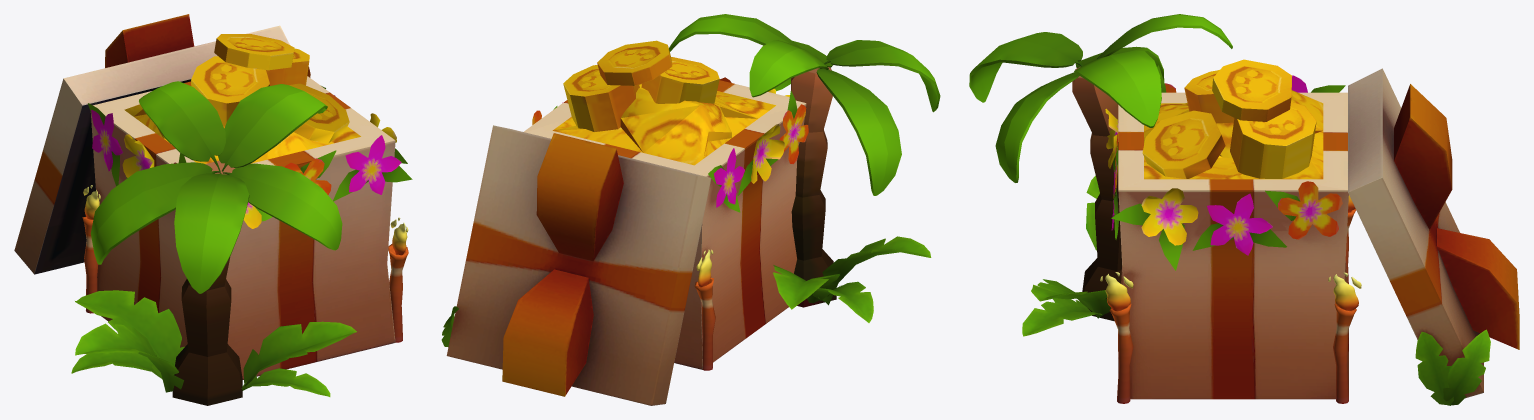
Rendered from Present Tropical.obj.
3 views of the same model, side by side, from view 1: azimuth 30°, elevation 25°; view 2: azimuth 150°, elevation 25°; view 3: azimuth 270°, elevation 25° (orthographic). The views are drawn at different scales.
Parts seen in each view (by area): view 1: PresentTropical1; view 2: PresentTropical1; view 3: PresentTropical1.
Boxes of the visible parts, bbox=[...] form: PresentTropical1: bbox=[14, 14, 412, 405]; PresentTropical1: bbox=[441, 14, 940, 405]; PresentTropical1: bbox=[969, 14, 1519, 405].
Bounding box in the file's own units: 7.84 × 6.07 × 10.52.
1 material, 1 textured.
